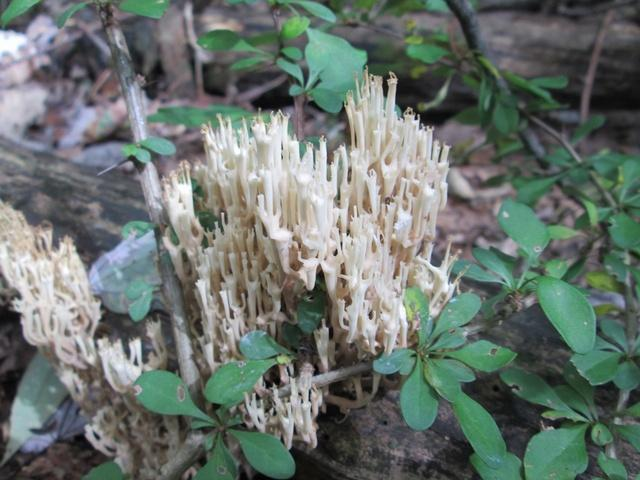edible_mushroom: (155, 65, 458, 452), (0, 196, 203, 479)
